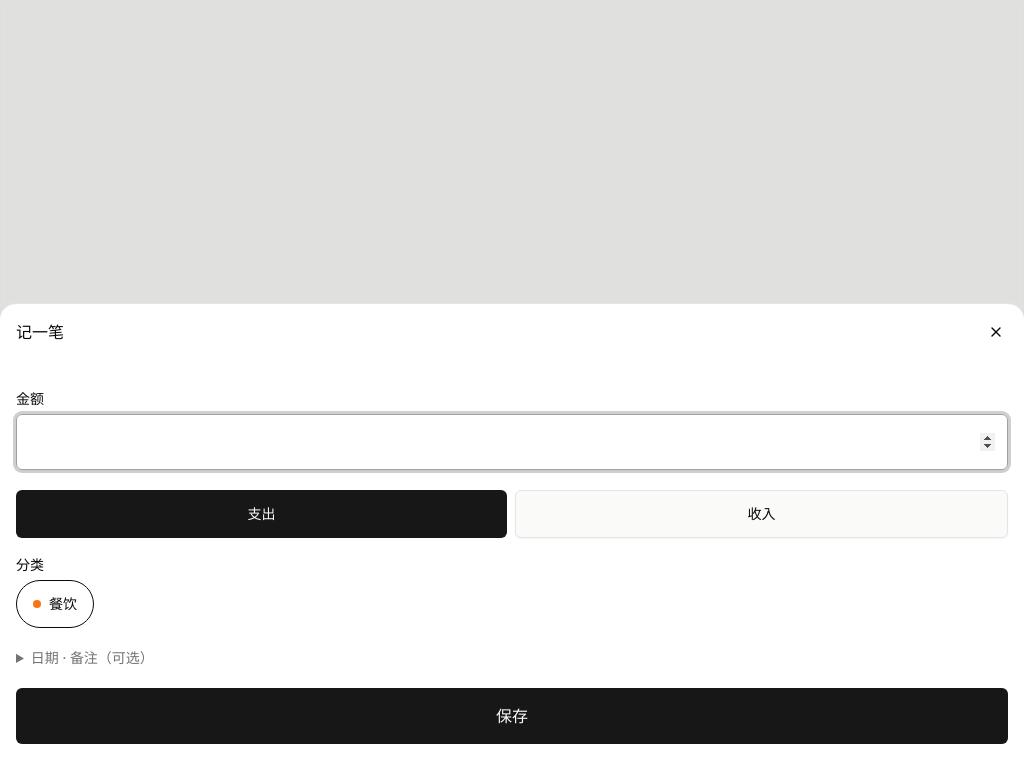
QuickAddSheet › blocks save when amount is empty
What coordinates should you click on to do the following:
click the button "保存"
I would click on:
 (512, 716)
Its box is [16,688,1008,744].
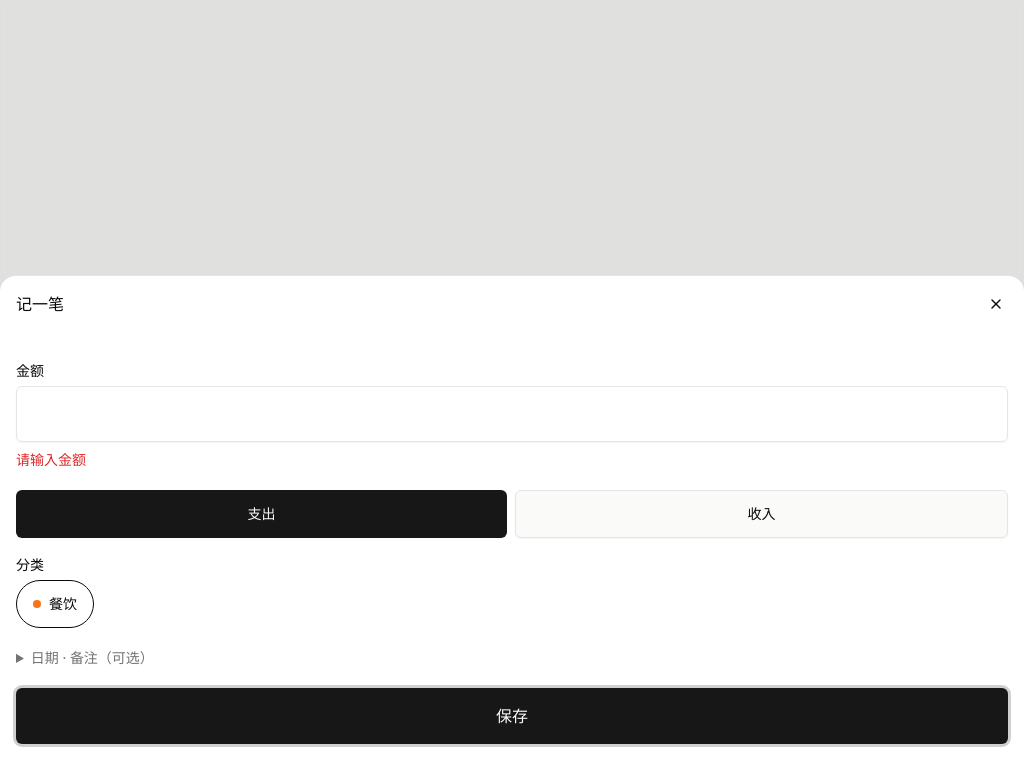
Now the text "请输入金额" is shown, box [16,450,86,469]
